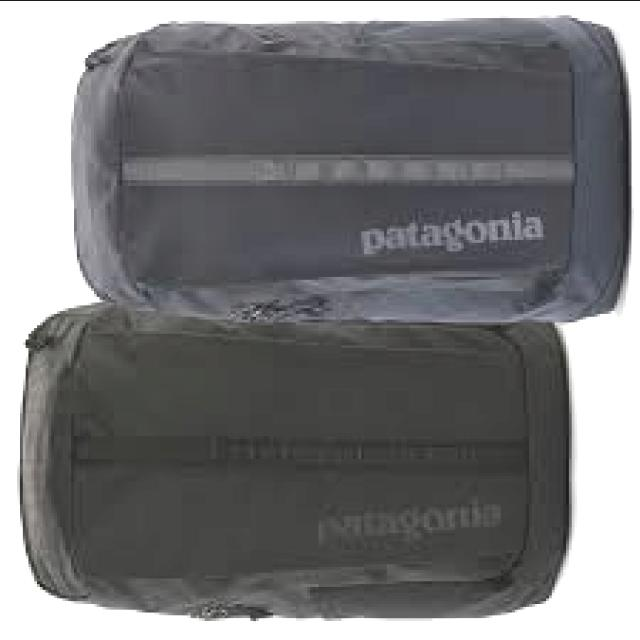backpack: (18, 302, 570, 624), (70, 18, 630, 328)
